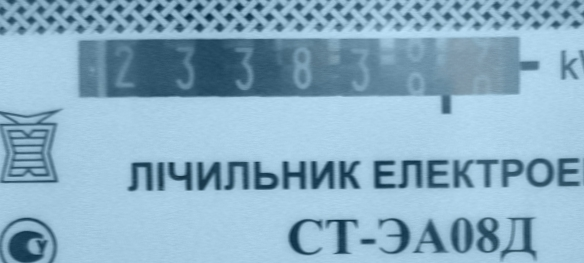0: (469, 70, 495, 95)
2: (110, 41, 138, 90)
3: (171, 42, 198, 92), (347, 43, 373, 92), (232, 43, 257, 93)
8: (289, 43, 314, 90), (402, 36, 430, 63)
9: (402, 67, 429, 96), (469, 35, 494, 64)
screen: (66, 22, 538, 120)
